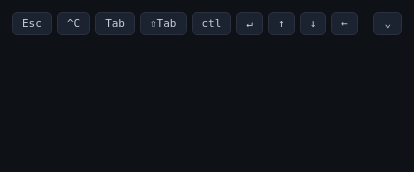
KeyBar accessibility › associates the overflow toggle with the collapsed and expanded key bar
Click the button named "Show all helper keys": {"x": 388, "y": 24} [373,12,402,35]
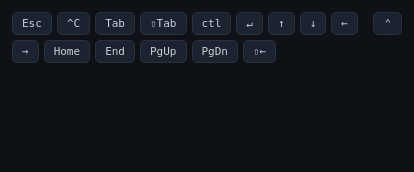
Now the button named "Show all helper keys" is expanded
Click the button named "Show all helper keys": {"x": 388, "y": 24} [373,12,402,35]
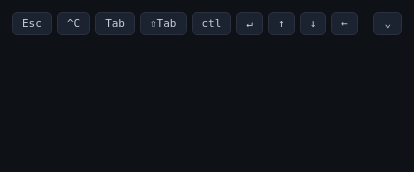
Now the button named "Show all helper keys" is collapsed, box [373,12,402,35]
